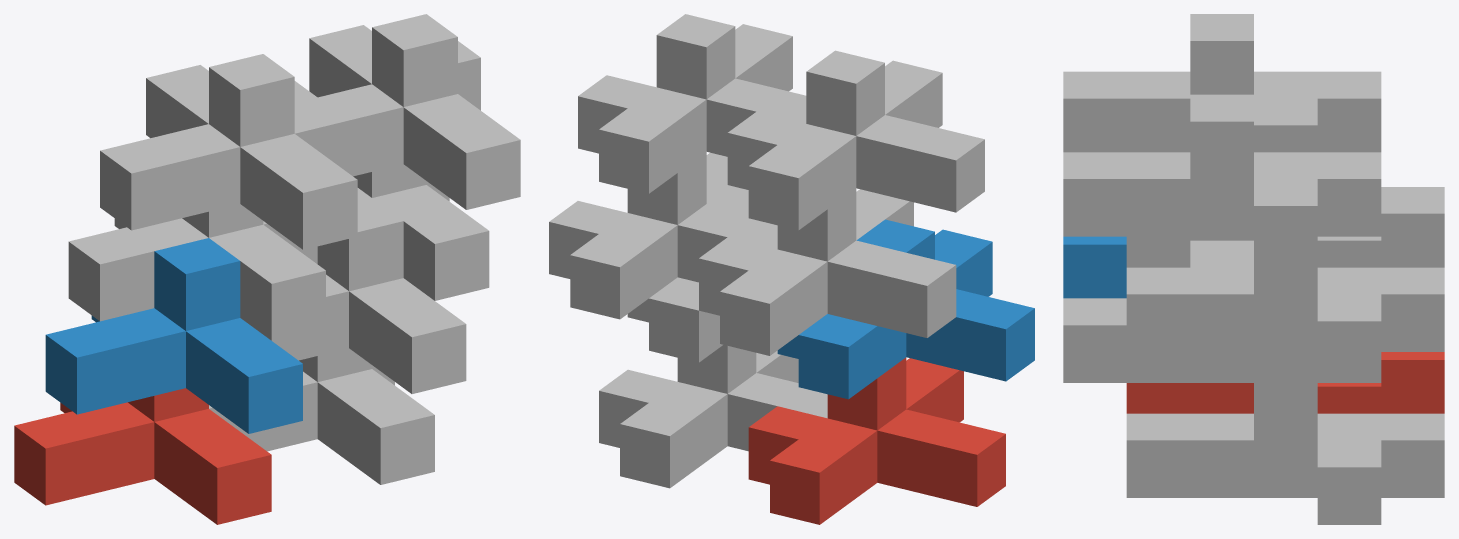
File: tiling.obj
3 views of the same model, side by side, from view 1: azimuth 30°, elevation 25°; view 2: azimuth 150°, elevation 25°; view 3: azimuth 270°, elevation 25° (orthographic). The views are drawn at different scales.
Visible parts, largest first — view 1: copy_1_domain_4, copy_1_domain_8, copy_1_domain_2, copy_1_domain_1, copy_1_domain_3, copy_1_domain_6, copy_1_domain_5, copy_1_domain_7; view 2: copy_1_domain_4, copy_1_domain_1, copy_1_domain_3, copy_1_domain_8, copy_1_domain_7, copy_1_domain_2, copy_1_domain_5, copy_1_domain_6; view 3: copy_1_domain_8, copy_1_domain_5, copy_1_domain_7, copy_1_domain_4, copy_1_domain_6, copy_1_domain_1, copy_1_domain_3, copy_1_domain_2.
Part boxes in pixels (<box>): copy_1_domain_4: <box>100,54,357,249</box>; copy_1_domain_8: <box>294,14,520,209</box>; copy_1_domain_2: <box>45,238,302,433</box>; copy_1_domain_1: <box>14,388,271,524</box>; copy_1_domain_3: <box>68,204,325,340</box>; copy_1_domain_6: <box>272,198,466,393</box>; copy_1_domain_5: <box>209,348,434,484</box>; copy_1_domain_7: <box>263,164,489,300</box>; copy_1_domain_4: <box>727,50,984,230</box>; copy_1_domain_1: <box>748,357,1005,524</box>; copy_1_domain_3: <box>699,188,956,355</box>; copy_1_domain_8: <box>578,14,806,193</box>; copy_1_domain_7: <box>549,152,777,319</box>; copy_1_domain_2: <box>777,219,1034,399</box>; copy_1_domain_5: <box>599,345,827,488</box>; copy_1_domain_6: <box>627,186,748,362</box>; copy_1_domain_8: <box>1063,94,1381,263</box>; copy_1_domain_5: <box>1126,409,1444,524</box>; copy_1_domain_7: <box>1126,263,1444,378</box>; copy_1_domain_4: <box>1063,14,1381,152</box>; copy_1_domain_6: <box>1063,240,1381,409</box>; copy_1_domain_1: <box>1126,352,1444,413</box>; copy_1_domain_3: <box>1126,187,1444,267</box>; copy_1_domain_2: <box>1063,236,1126,298</box>.
Size of the model in its own units: 8 by 7 by 6.
